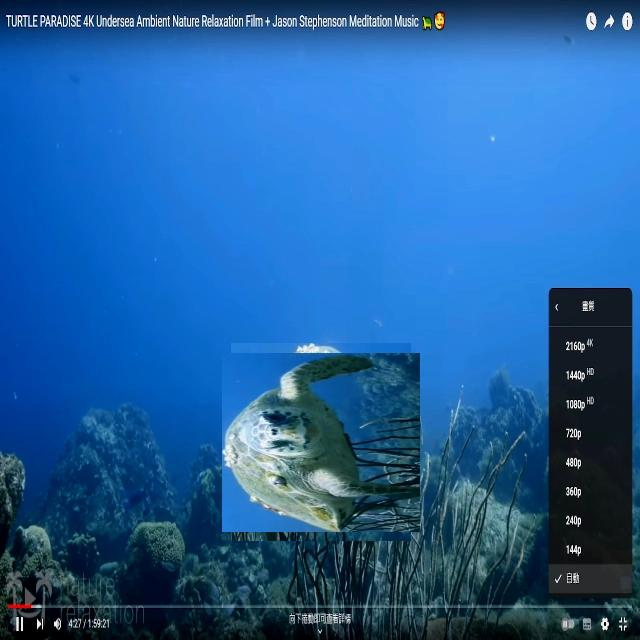Sea turtle: (226, 348, 416, 536)
